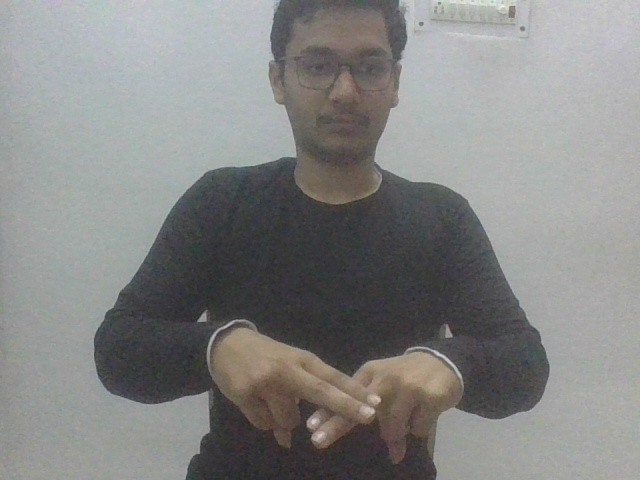F: (209, 318, 467, 464)
